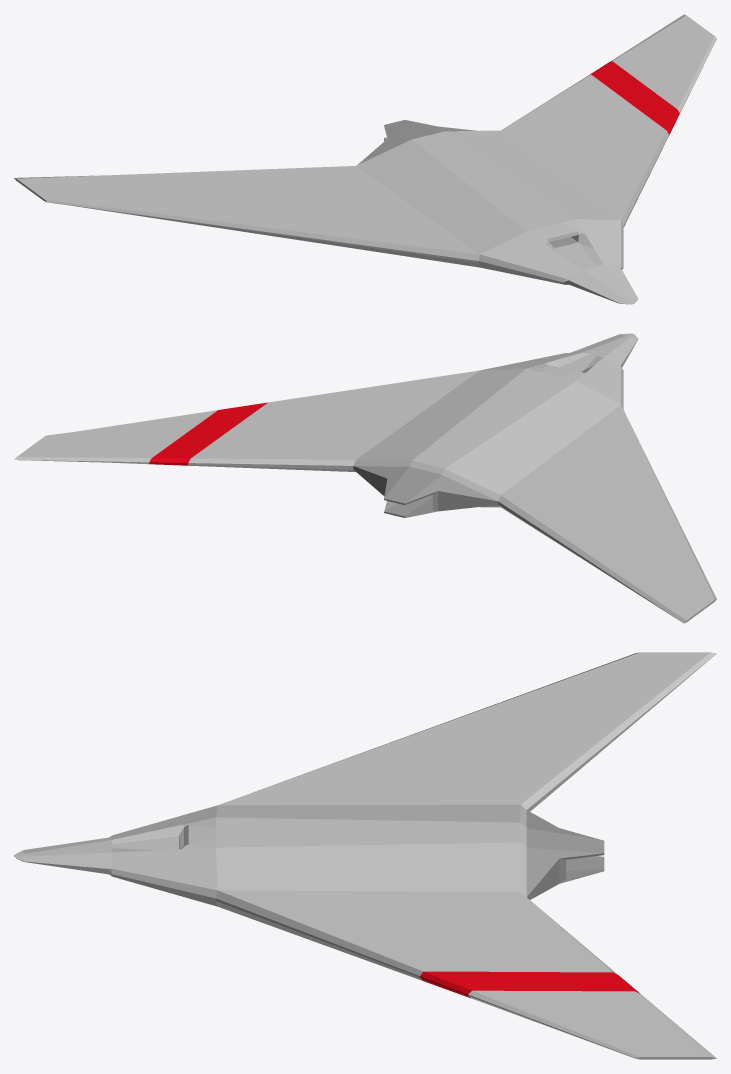
The model's file is droneModel.fbx.
3 renders of one model, top to bottom at view 1: azimuth 30°, elevation 25°; view 2: azimuth 150°, elevation 25°; view 3: azimuth 270°, elevation 25°, orthographic. The views are drawn at different scales.
Parts seen in each view (by area): view 1: Drone; view 2: Drone; view 3: Drone.
Boxes of the visible parts, x1,y1,x2,y2 form: Drone: (14,14,716,304); Drone: (14,333,716,623); Drone: (14,652,716,1059).
Size of the model in its own units: 1850 by 100 by 1358.
